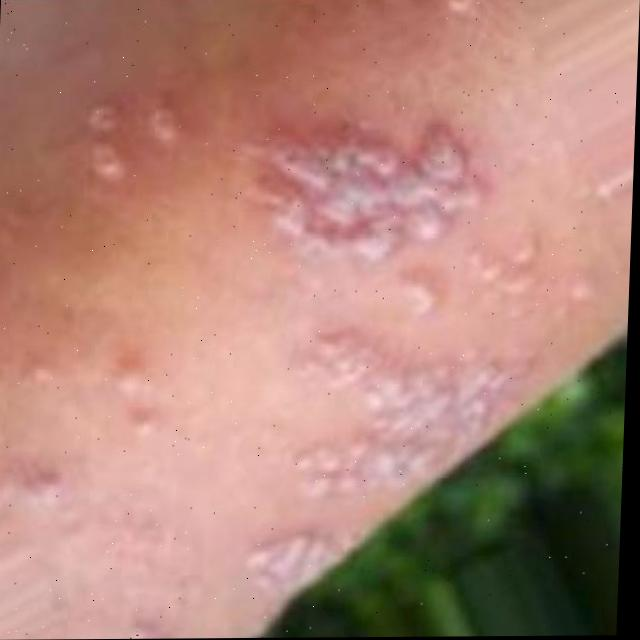Shingles: (291, 327, 521, 492), (248, 122, 487, 265), (88, 104, 185, 183), (243, 523, 344, 594)
